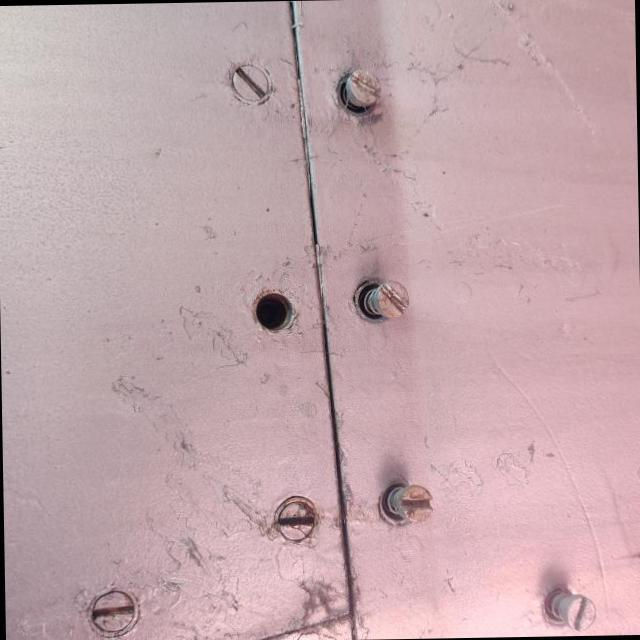Fastener Damage: (234, 256, 338, 364)
